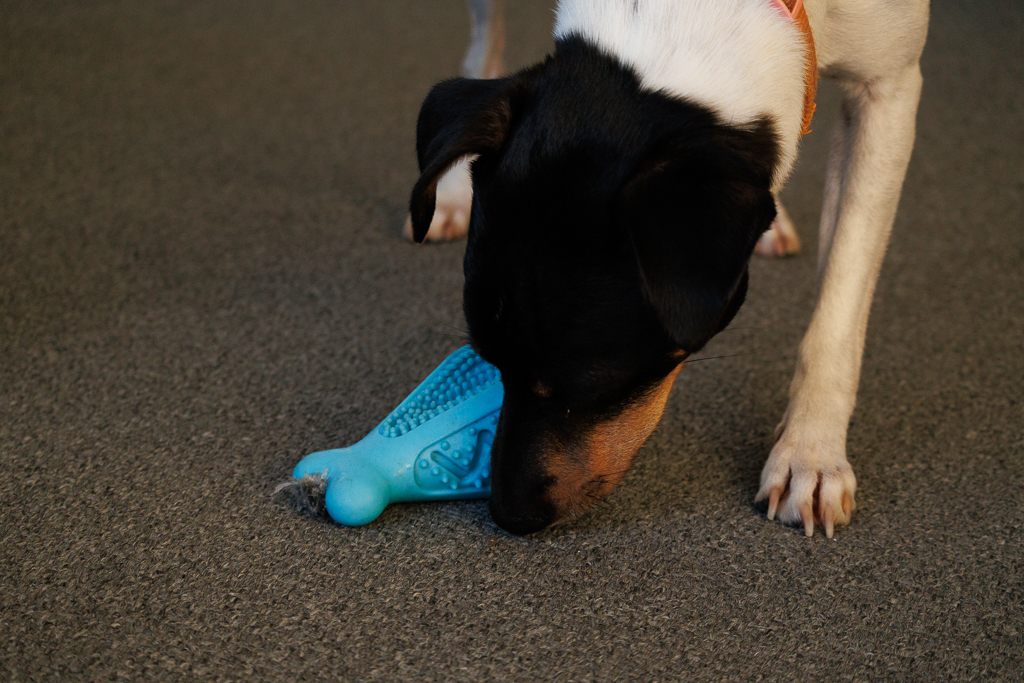Dog: (383, 0, 938, 553)
